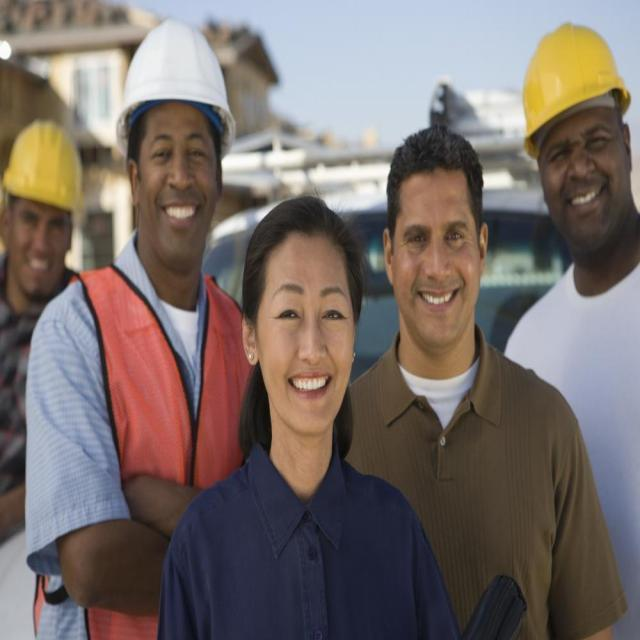No_Goggles: (260, 280, 354, 333), (394, 201, 476, 253), (541, 123, 623, 174), (138, 125, 218, 173)
No_Helmet: (245, 192, 362, 272), (388, 125, 487, 193)
